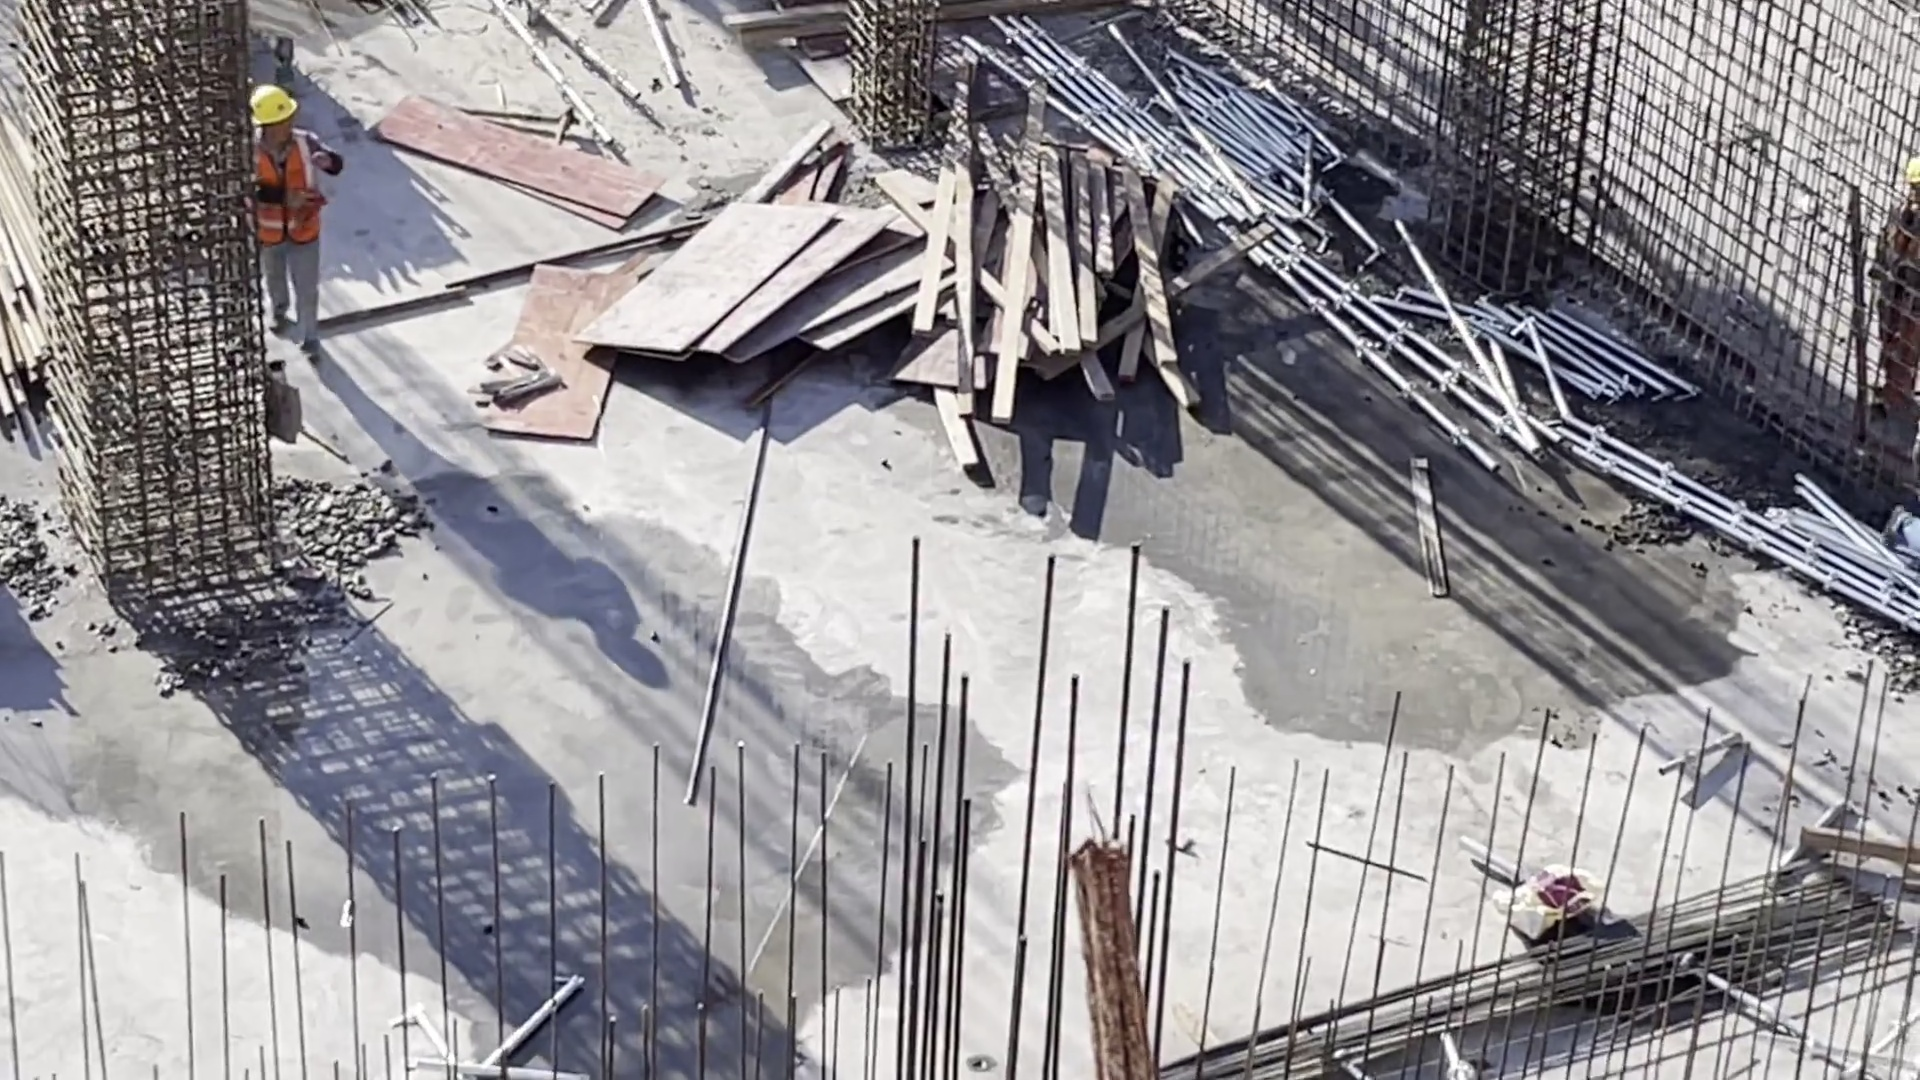board: (578, 190, 914, 378)
helmet: (251, 80, 299, 117)
person: (255, 86, 349, 357)
rebar: (1205, 854, 1881, 1078)
scaffold: (1028, 1, 1328, 228), (1762, 483, 1920, 639), (1495, 265, 1643, 413)
vest: (233, 126, 332, 244)
wood: (916, 75, 1192, 441)
